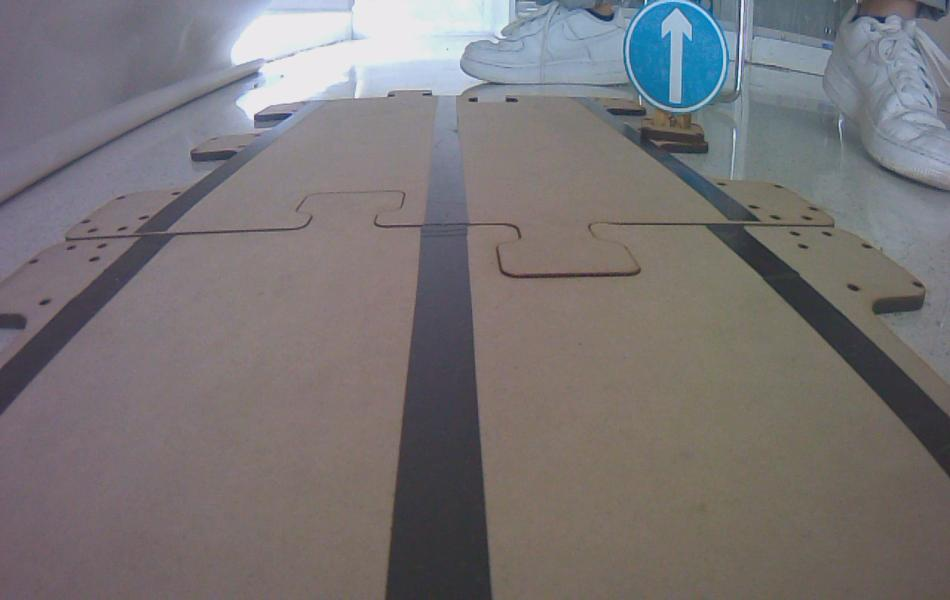straight: (625, 1, 728, 112)
